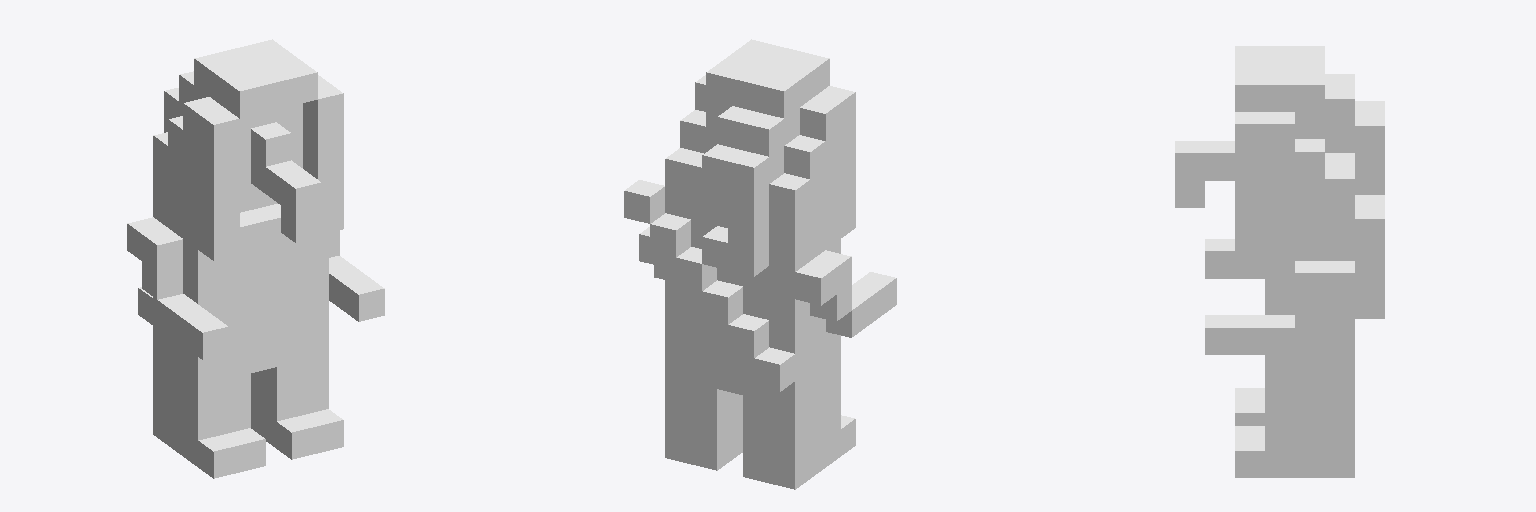
File: Goblin.obj
3 renders of one model, left to right at view 1: azimuth 30°, elevation 25°; view 2: azimuth 150°, elevation 25°; view 3: azimuth 270°, elevation 25°, orthographic.
Visible parts, largest first — view 1: object 1; view 2: object 1; view 3: object 1.
Boxes of the visible parts, <box> form: object 1: <box>127,39,384,478</box>; object 1: <box>624,39,896,489</box>; object 1: <box>1175,46,1384,477</box>.
Bounding box in the file's own units: 0.7 × 1.4 × 0.7.